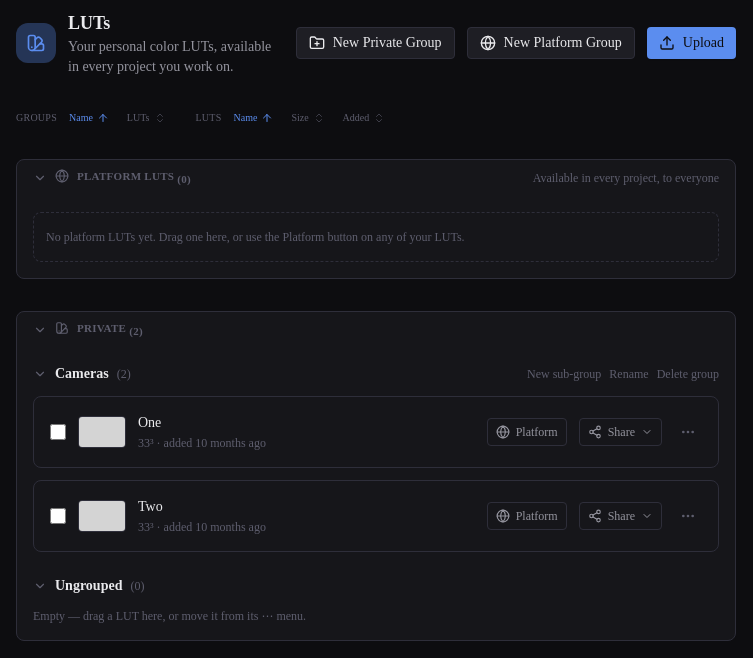
Test case: frame boxes › collapses each independently
Click the button "Private (2)" at (102, 328), box [33,320,719,340]
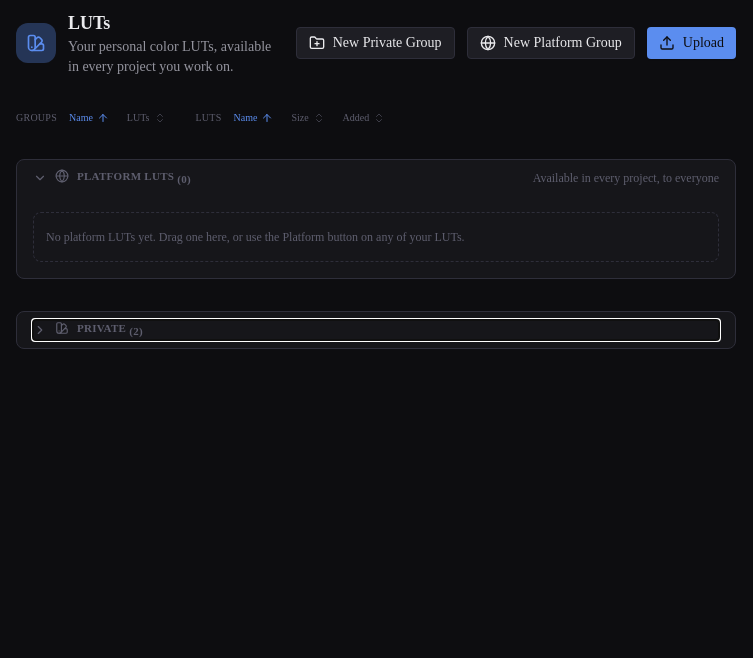
Expected: the heading "Platform LUTs (0)" is shown, [33,168,525,188]
Result: the button "Cameras" is gone
